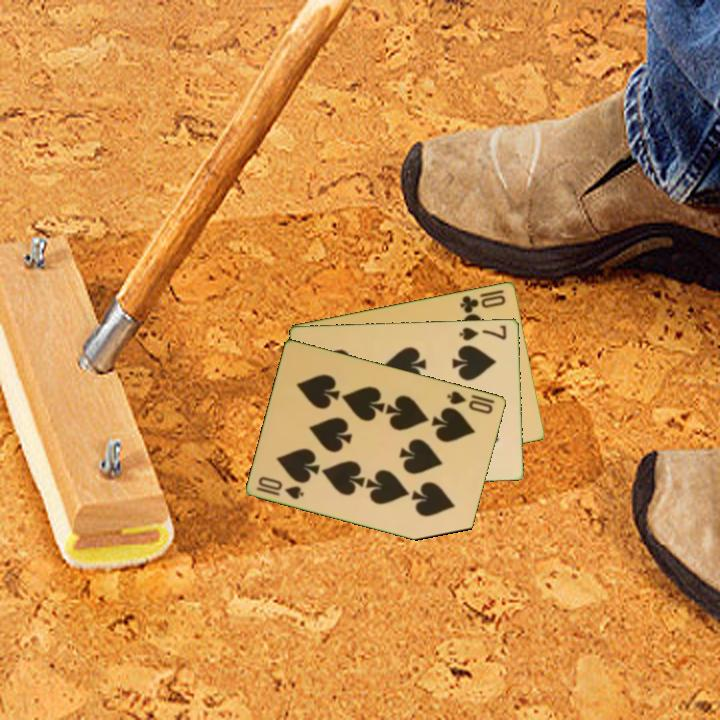10c: (457, 291, 509, 316)
10s: (253, 473, 307, 502), (444, 387, 496, 417)
7s: (456, 321, 510, 343)
